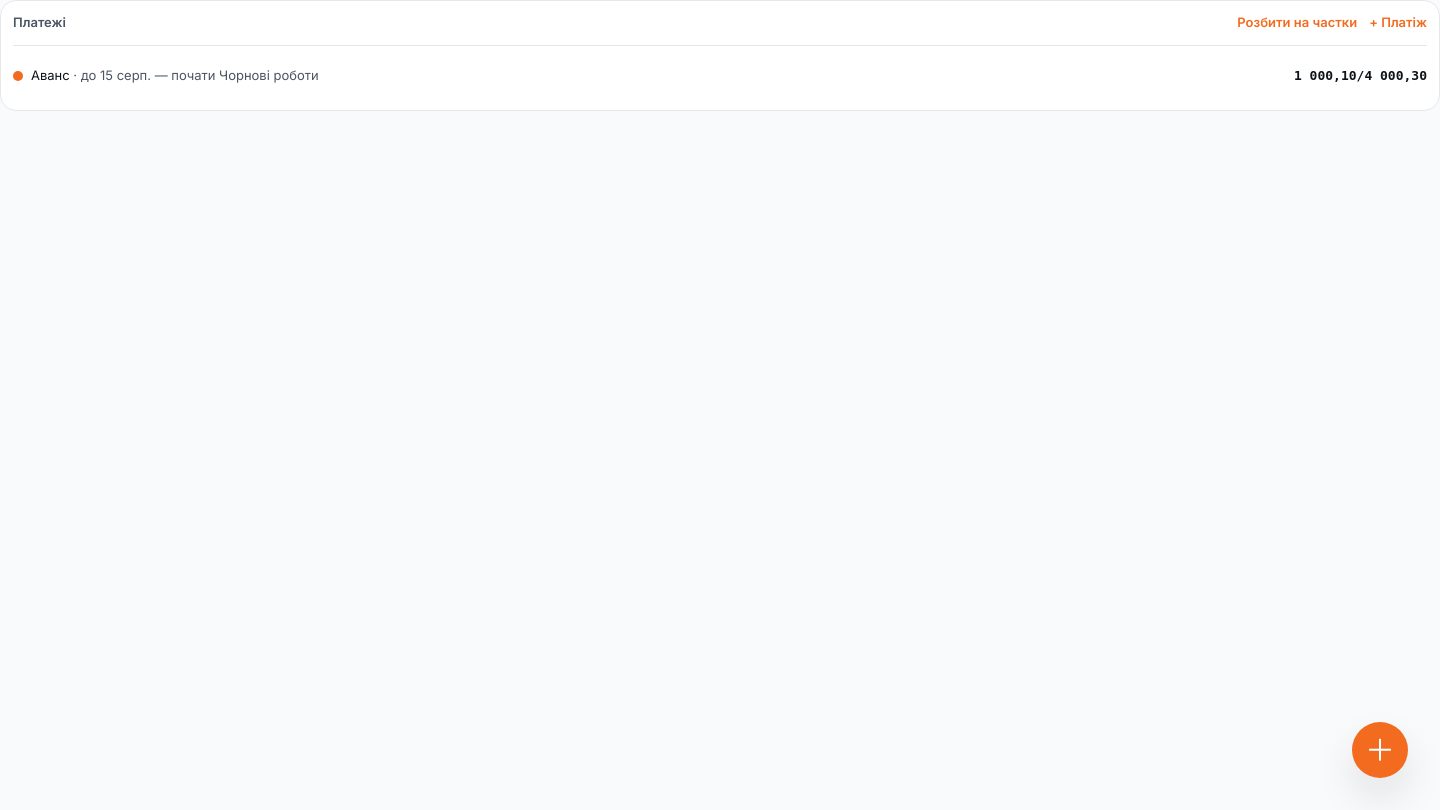
Test: PaymentsBlock — plan vs fact (payments PLAN/FACT split, V100) › pre-fills a stage remaining the field can read back
Click the button "+ Платіж": (1398, 23) [1369,13,1427,32]
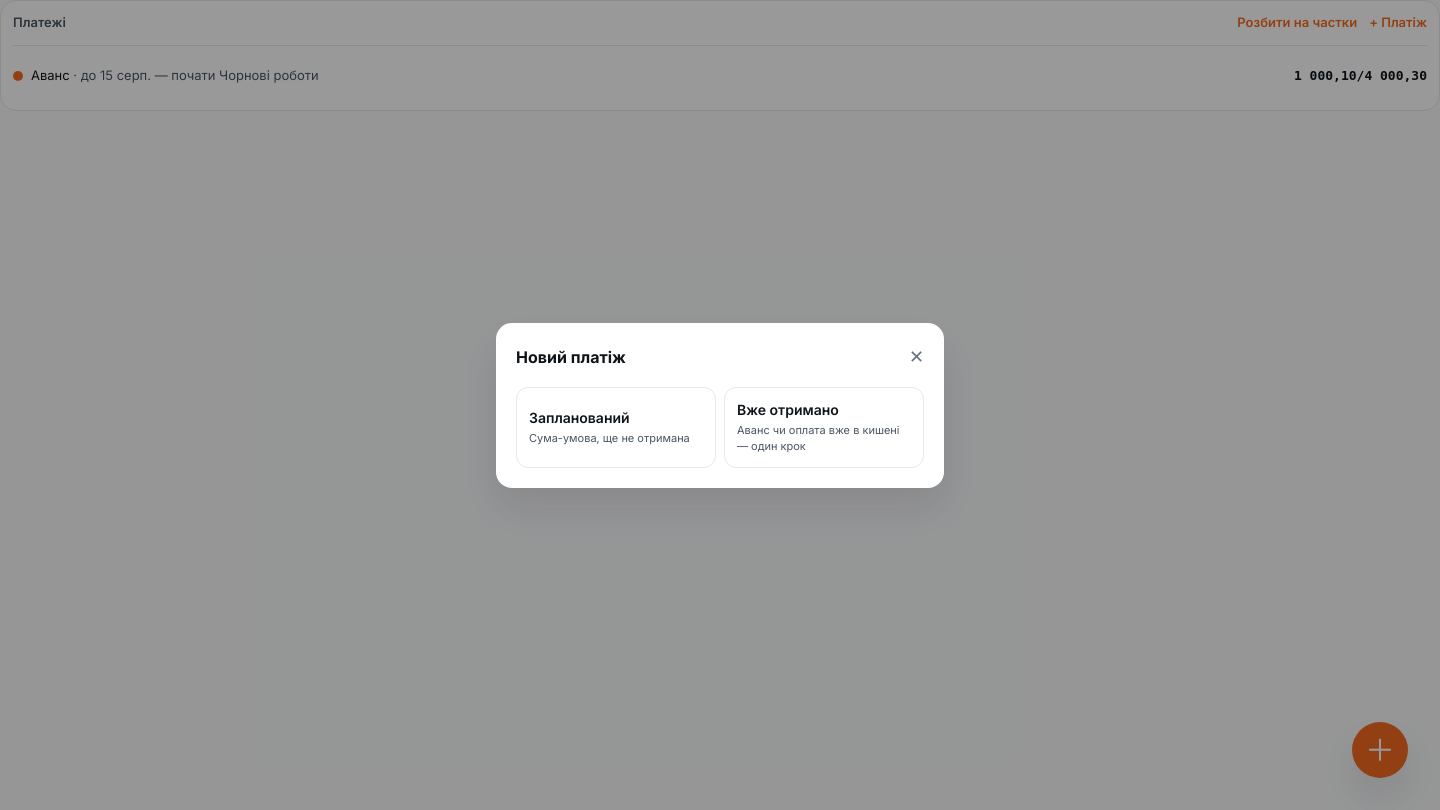
Click the text "Вже отримано": (788, 409) [737,400,839,418]
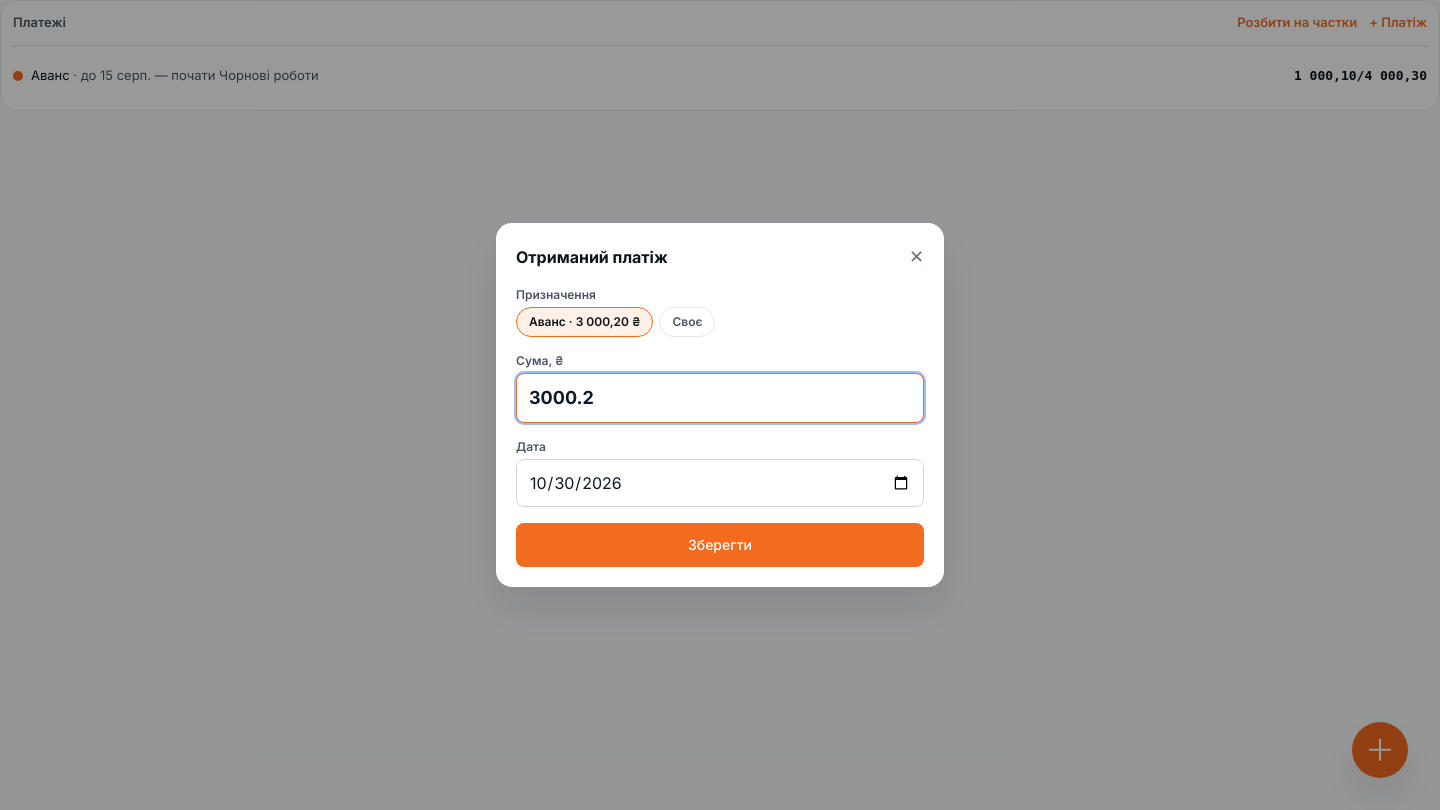
expect the field showing "3000.2" is shown: met, box [516,373,924,423]
